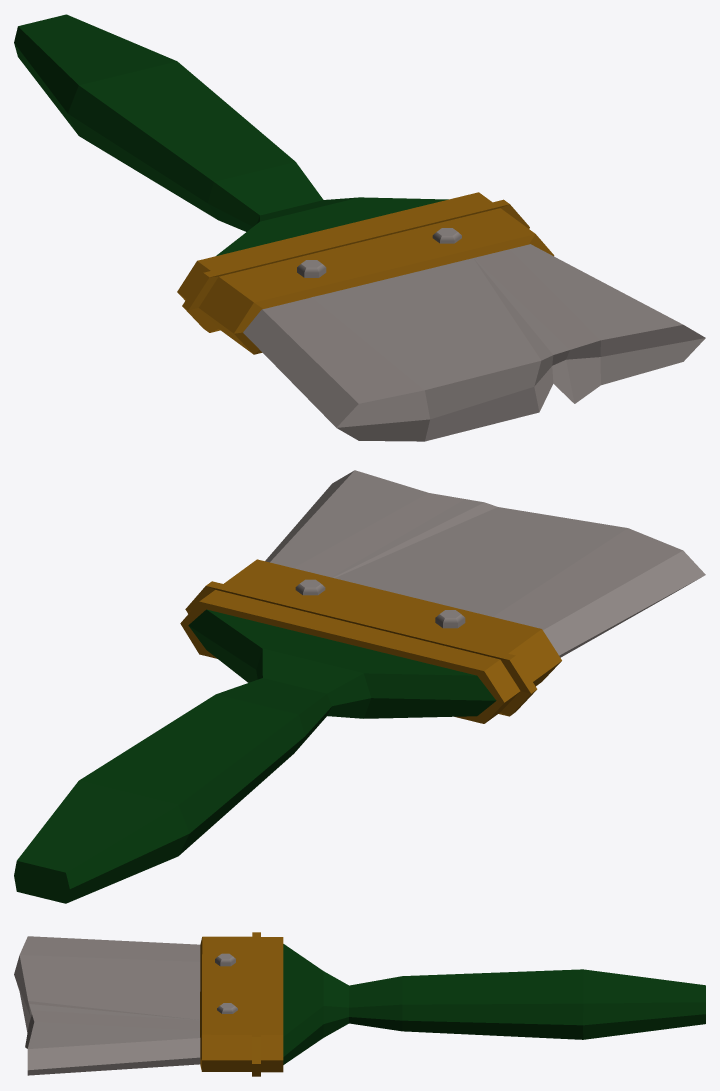
Rendered from Archaeology_Brush.fbx.
The picture shows the model from 3 angles, top to bottom: view 1: azimuth 30°, elevation 25°; view 2: azimuth 150°, elevation 25°; view 3: azimuth 270°, elevation 25°; orthographic projection. The views are drawn at different scales.
Parts seen in each view (by area): view 1: Archaeology_Brush; view 2: Archaeology_Brush; view 3: Archaeology_Brush.
Boxes of the visible parts, x1,y1,x2,y2 form: Archaeology_Brush: (14, 14, 705, 441); Archaeology_Brush: (14, 470, 705, 903); Archaeology_Brush: (14, 932, 705, 1076).
Size of the model in its own units: 26.86 by 4.89 by 61.1.
